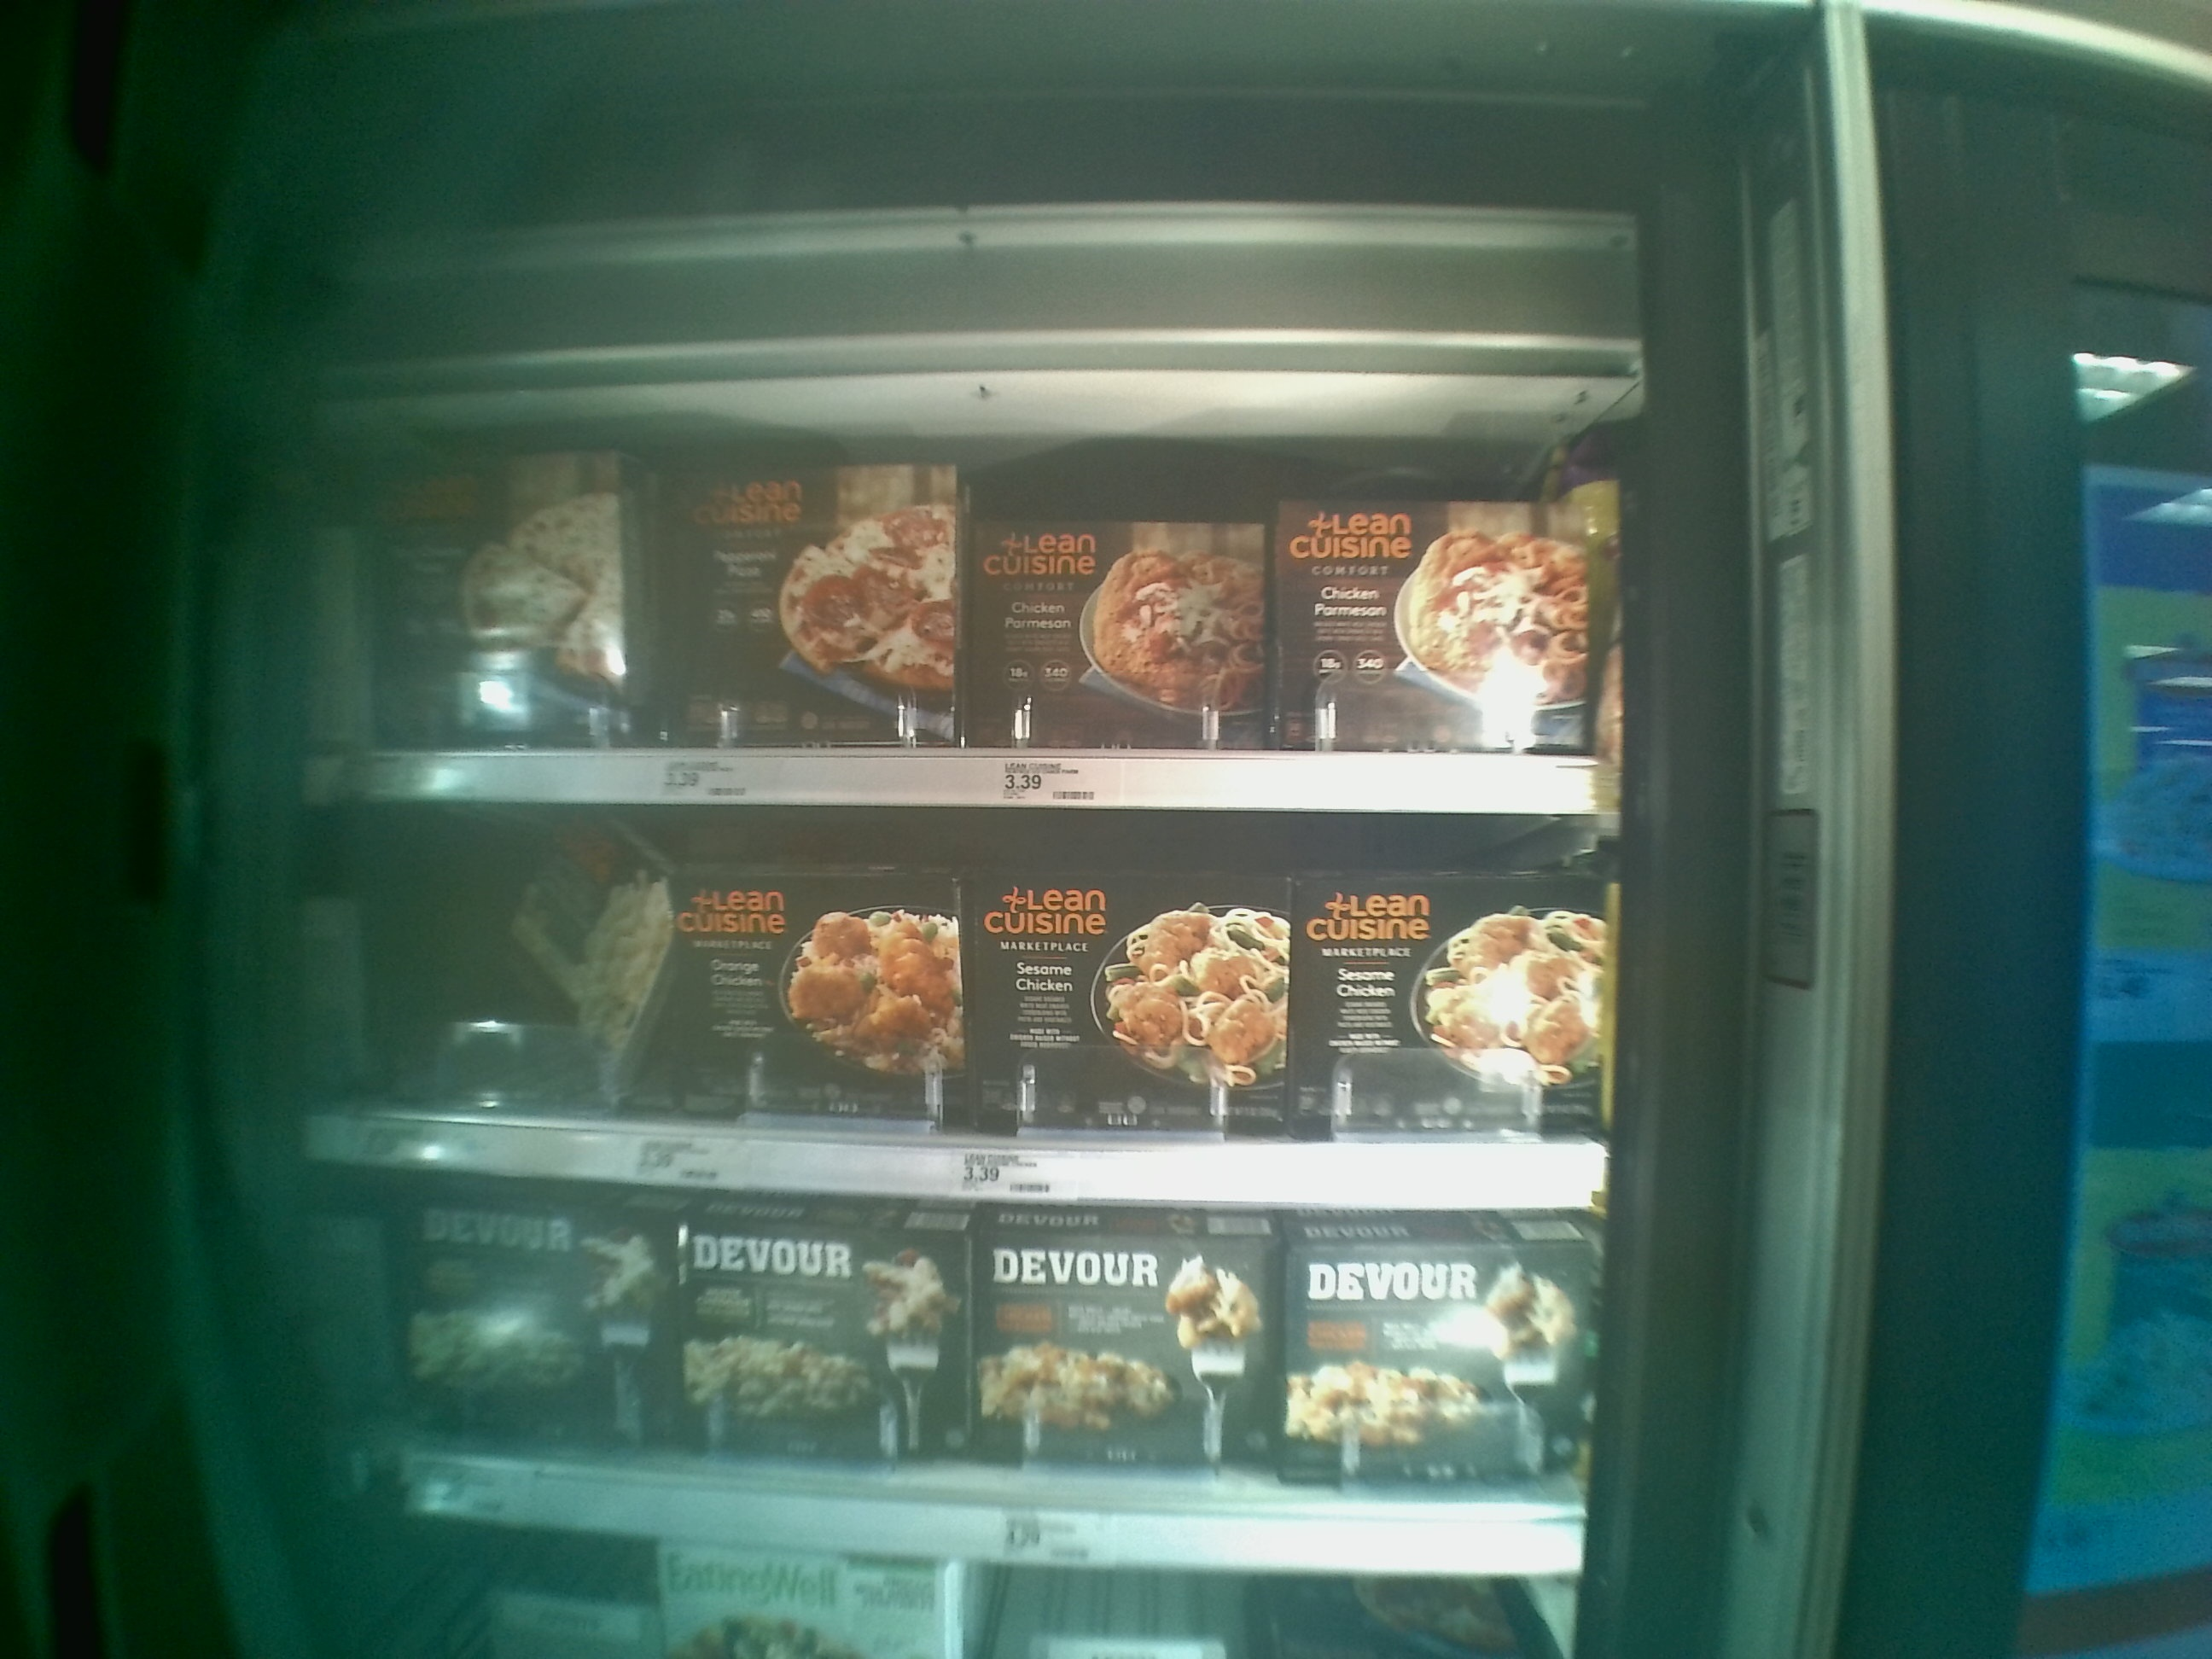shelf: (298, 390, 1622, 809), (298, 807, 1615, 1213), (320, 1166, 1588, 1584)
